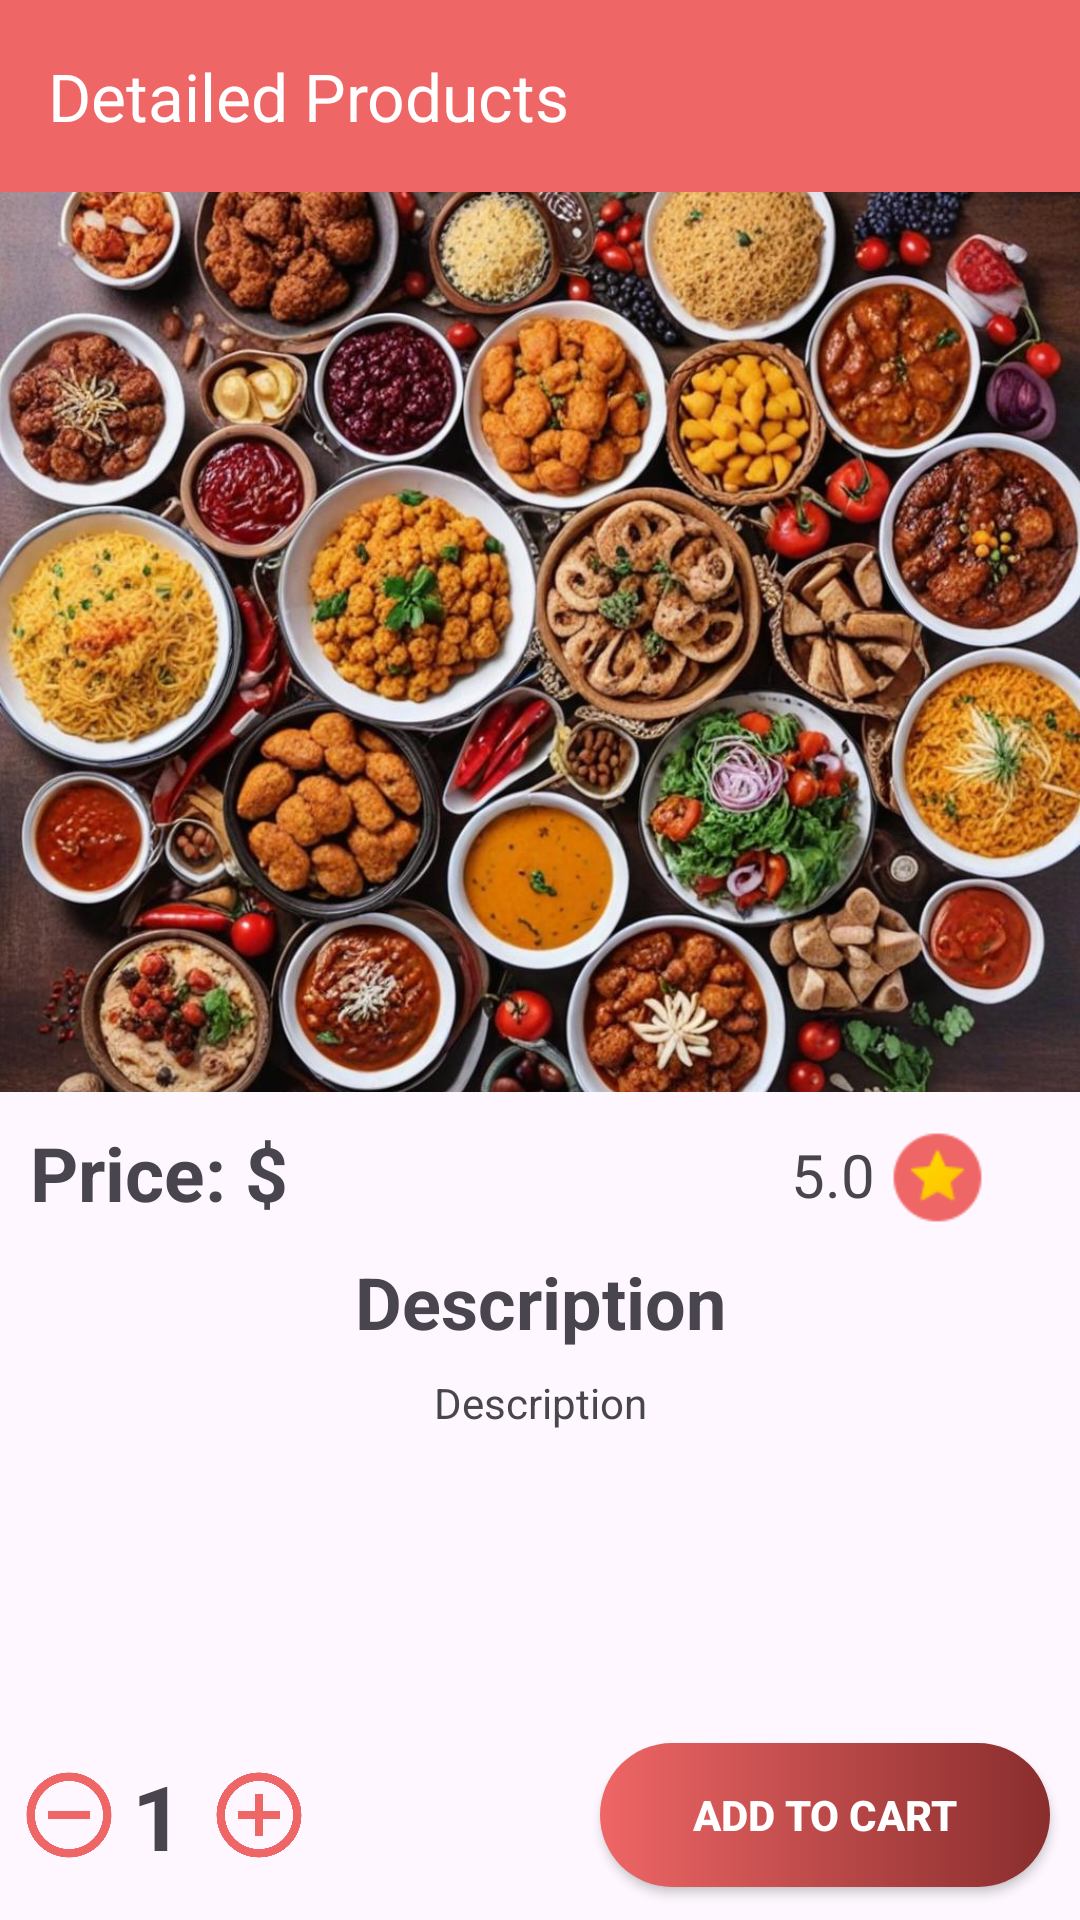

Icon click points for this 1080x1920 phone screenshot, format point (x, y):
circle add: point (259, 1815)
circle remove: point (69, 1815)
